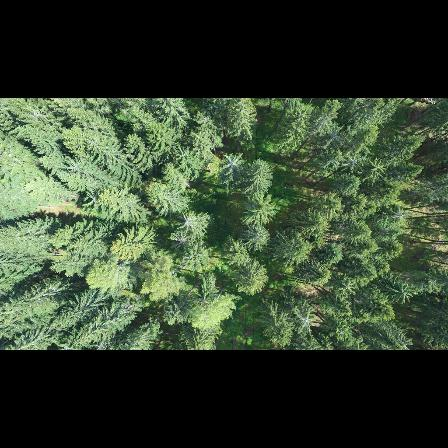Sick: (217, 151, 249, 174), (294, 311, 318, 334), (322, 126, 346, 147), (176, 213, 199, 233), (337, 275, 357, 297), (169, 231, 191, 251), (388, 208, 411, 227), (346, 154, 366, 170)
